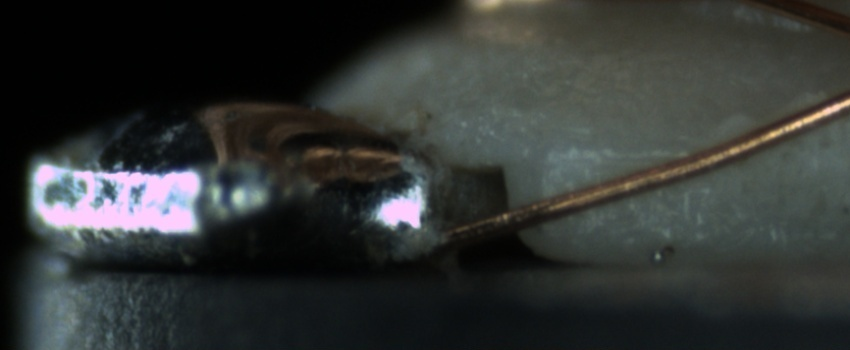DL: (553, 127, 698, 184)
